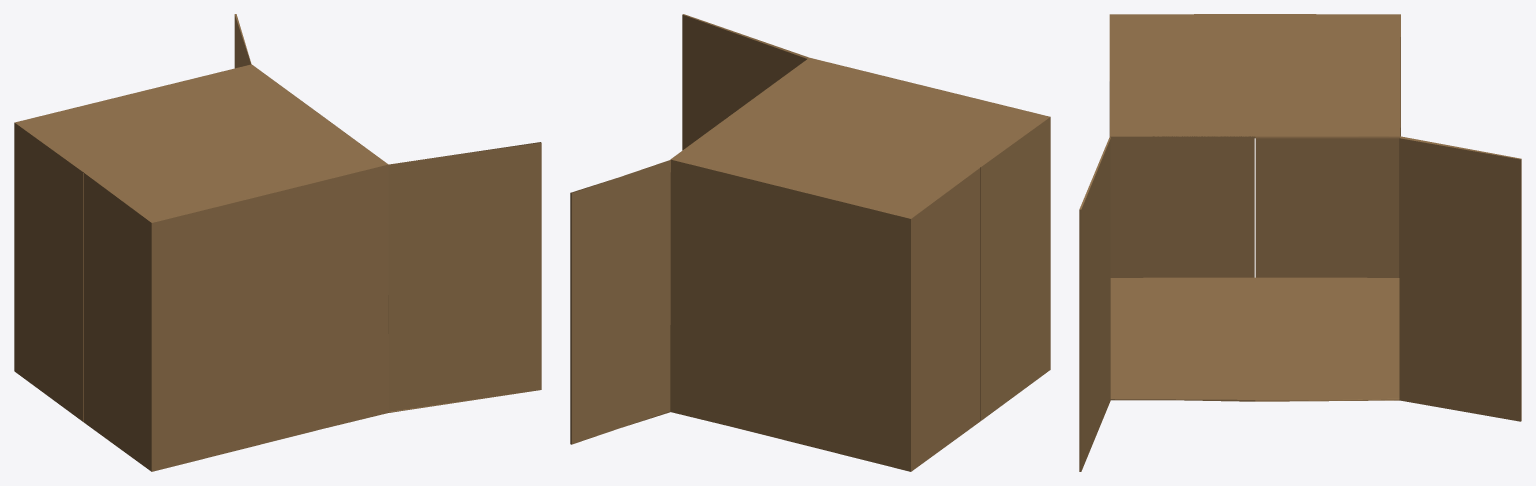
Rendered from OpenBox.fbx.
3 renders of one model, left to right at view 1: azimuth 30°, elevation 25°; view 2: azimuth 150°, elevation 25°; view 3: azimuth 270°, elevation 25°, orthographic. The views are drawn at different scales.
Visible parts, largest first — view 1: Cube; view 2: Cube; view 3: Cube.
Boxes of the visible parts, <box> form: Cube: <box>14,14,541,471</box>; Cube: <box>570,14,1050,471</box>; Cube: <box>1079,14,1521,471</box>.
Bounding box in the file's own units: 224 × 143 × 216.
